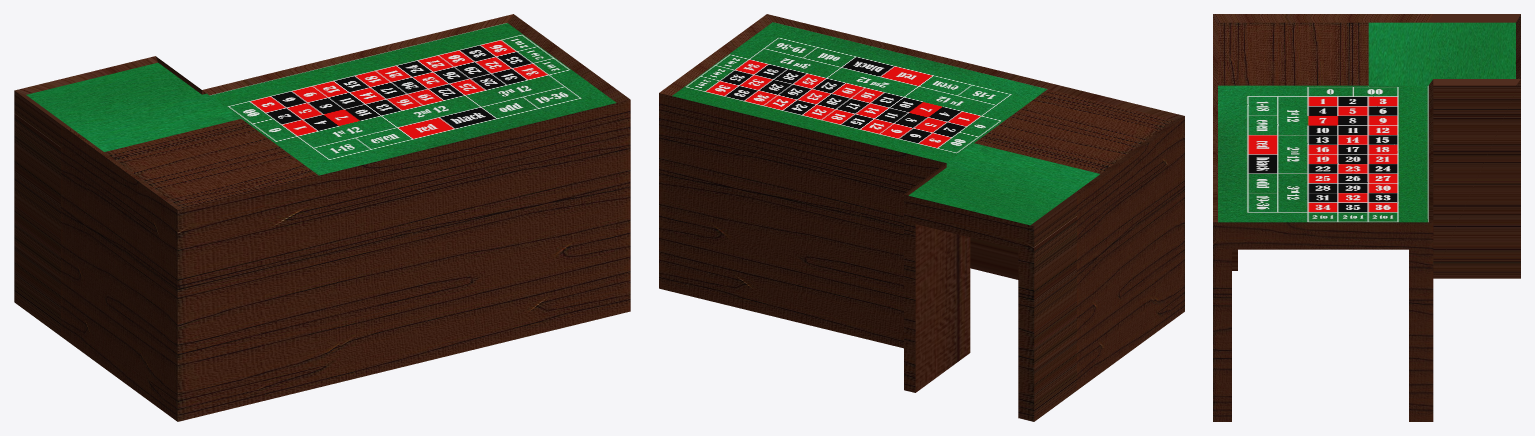
File: Roulette Table.glb
3 renders of one model, left to right at view 1: azimuth 30°, elevation 25°; view 2: azimuth 150°, elevation 25°; view 3: azimuth 270°, elevation 25°, orthographic. The views are drawn at different scales.
Visible parts, largest first — view 1: Table; view 2: Table; view 3: Table.
Boxes of the visible parts, x1,y1,x2,y2 form: Table: (14,14,630,421); Table: (659,14,1184,421); Table: (1213,14,1520,421).
Bounding box in the file's own units: 2.73 × 1.22 × 1.7.
Materials: 2 (2 with a texture image).
